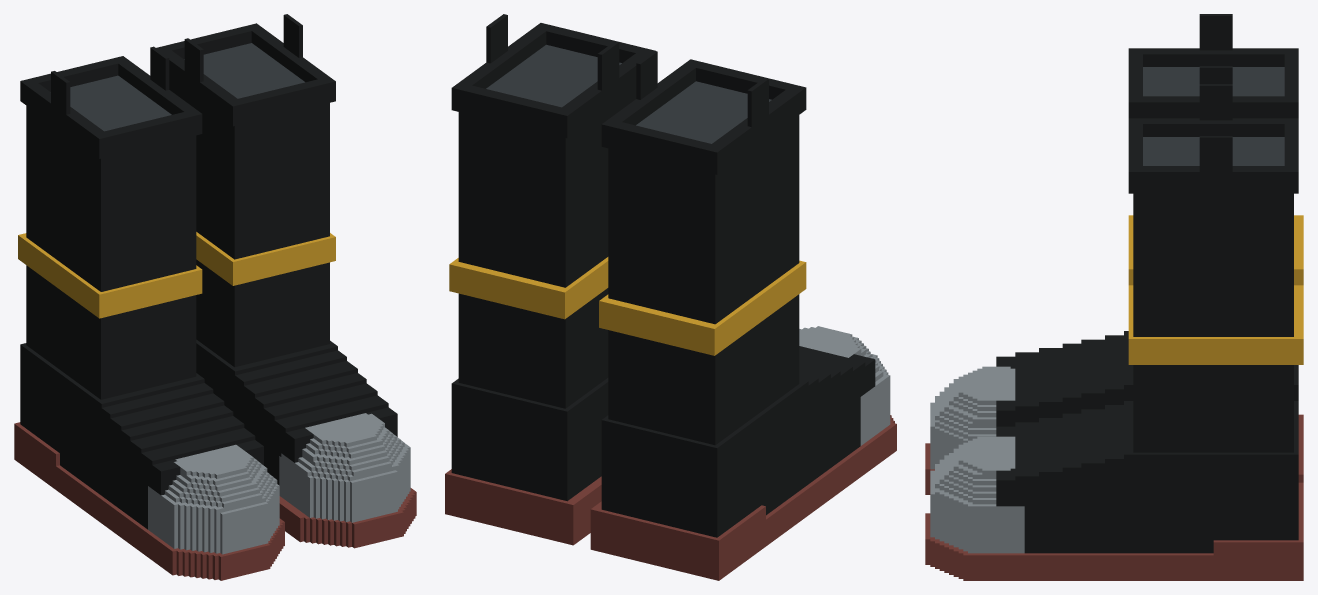
File: boots_bunker.glb
The picture shows the model from 3 angles, left to right: view 1: azimuth 30°, elevation 25°; view 2: azimuth 150°, elevation 25°; view 3: azimuth 270°, elevation 25°; orthographic projection. The views are drawn at different scales.
Parts seen in each view (by area): view 1: boots_bunker:compound; view 2: boots_bunker:compound; view 3: boots_bunker:compound.
Part boxes in pixels (x1,y1,x2,y2): boots_bunker:compound: [14, 14, 416, 580]; boots_bunker:compound: [445, 14, 896, 580]; boots_bunker:compound: [925, 14, 1303, 580].
Bounding box in the file's own units: 0.256 × 0.412 × 0.32.
